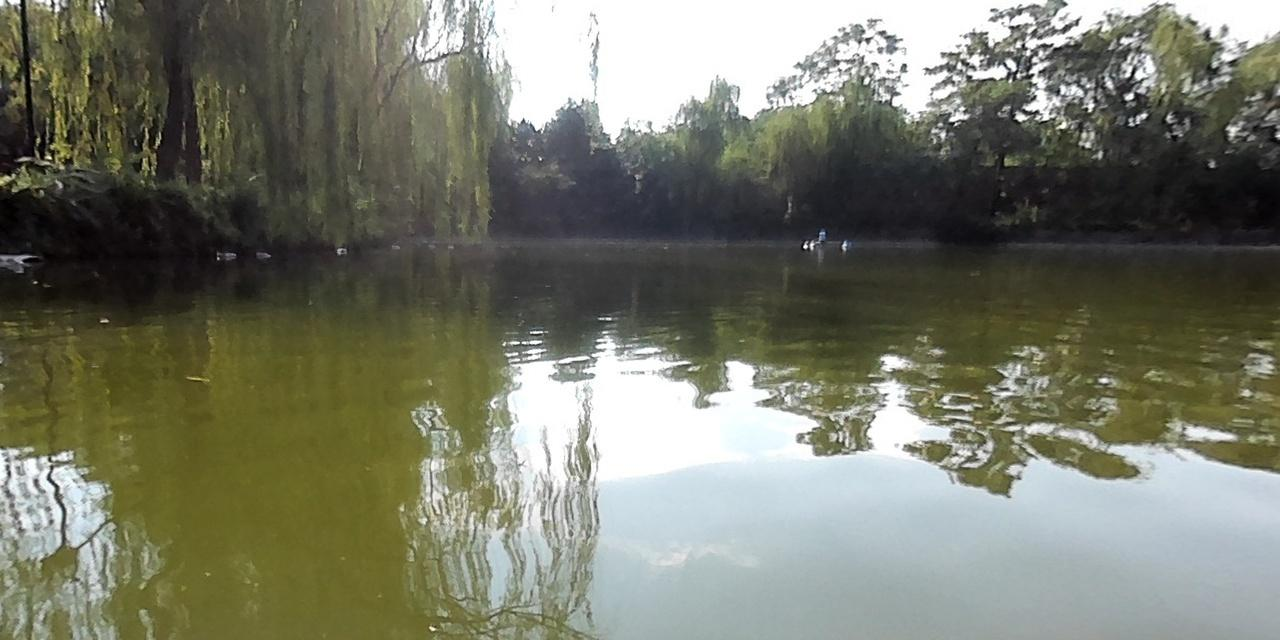bottle: (216, 250, 233, 260), (256, 251, 271, 261), (336, 246, 346, 255)
